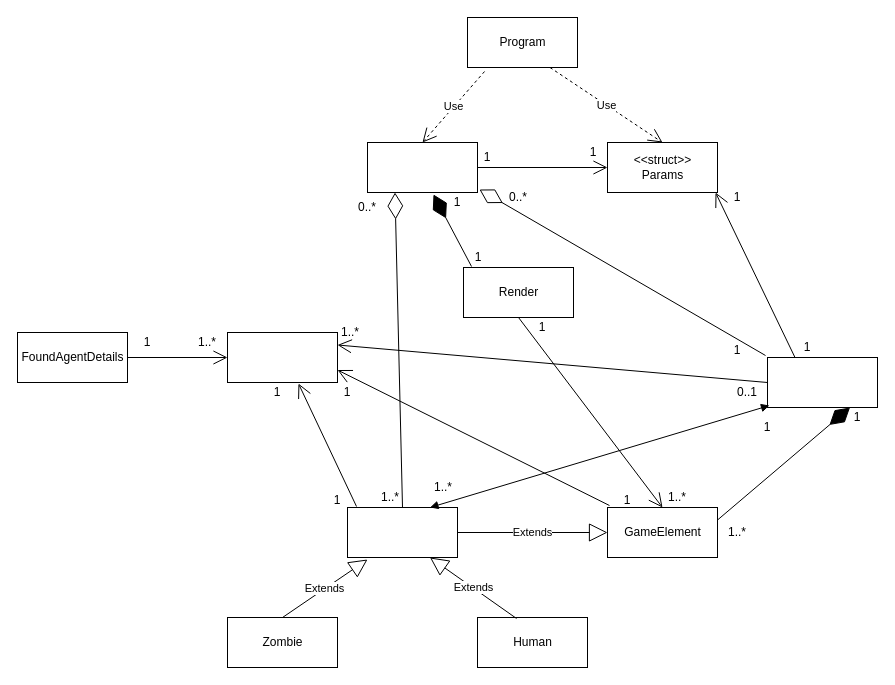
This 895x685 diagram has some shape labels left out. Each missing label, with the centre of its shape:
"Agent" belongs at point 402,532.
"Board" belongs at point 822,382.
"Game" belongs at point 422,167.
"Position" belongs at point 282,357.
